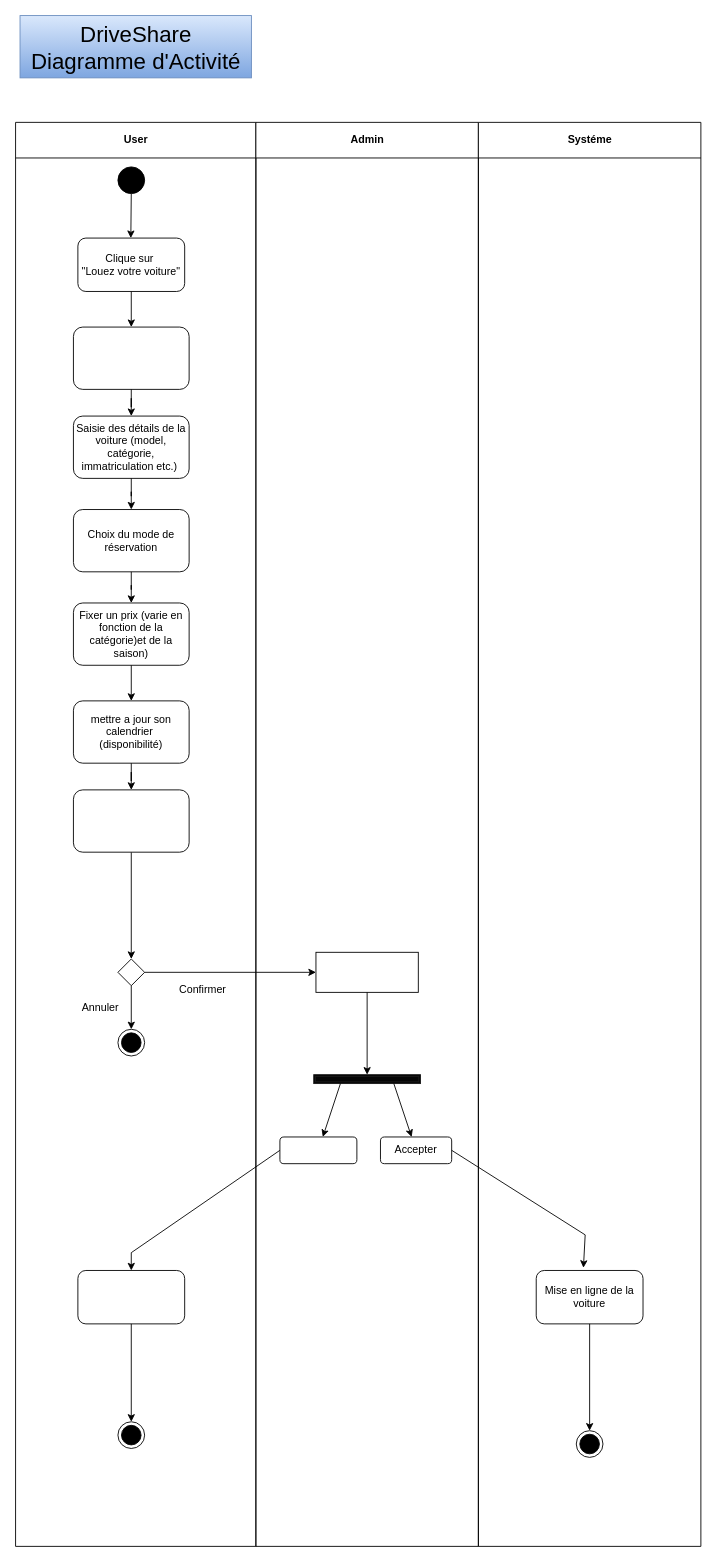
This 716x1562 diagram has some shape labels left out. The centre of each missing label's shape, as x and y in pixels:
Ajouter photos, carte grise, permis: the point at 131,820
Choix de l'offre: the point at 131,357
Envoi d'une notification (explication du refus): the point at 131,1297
Refuser: the point at 318,1150
Verification des données: the point at 366,971
